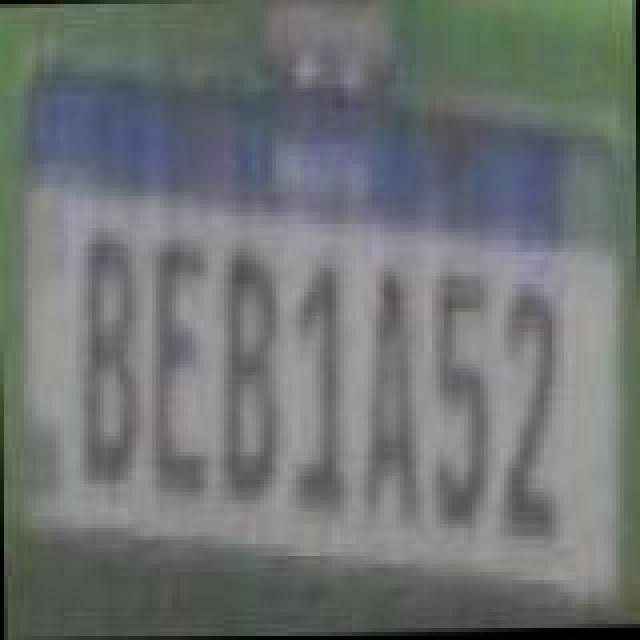1: (290, 258, 354, 510)
2: (500, 274, 560, 538)
5: (426, 268, 490, 532)
A: (354, 270, 418, 534)
B: (80, 234, 144, 474), (220, 258, 280, 510)
E: (150, 246, 210, 498)
